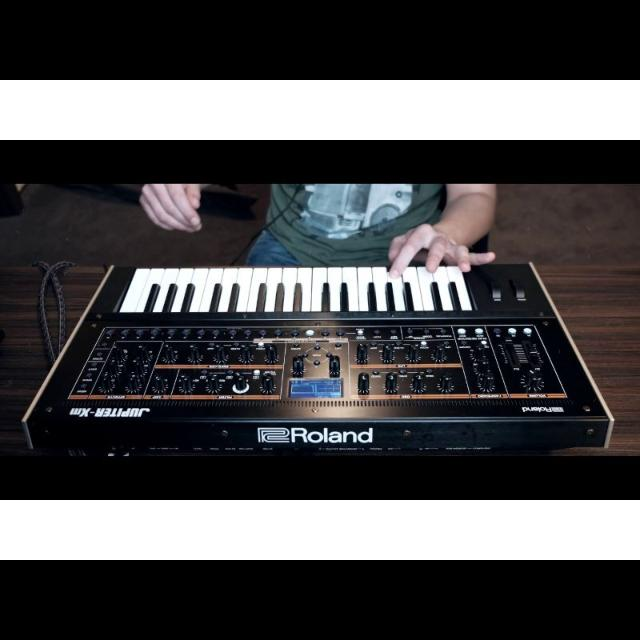Electronic-Keyboard: (23, 238, 617, 457)
